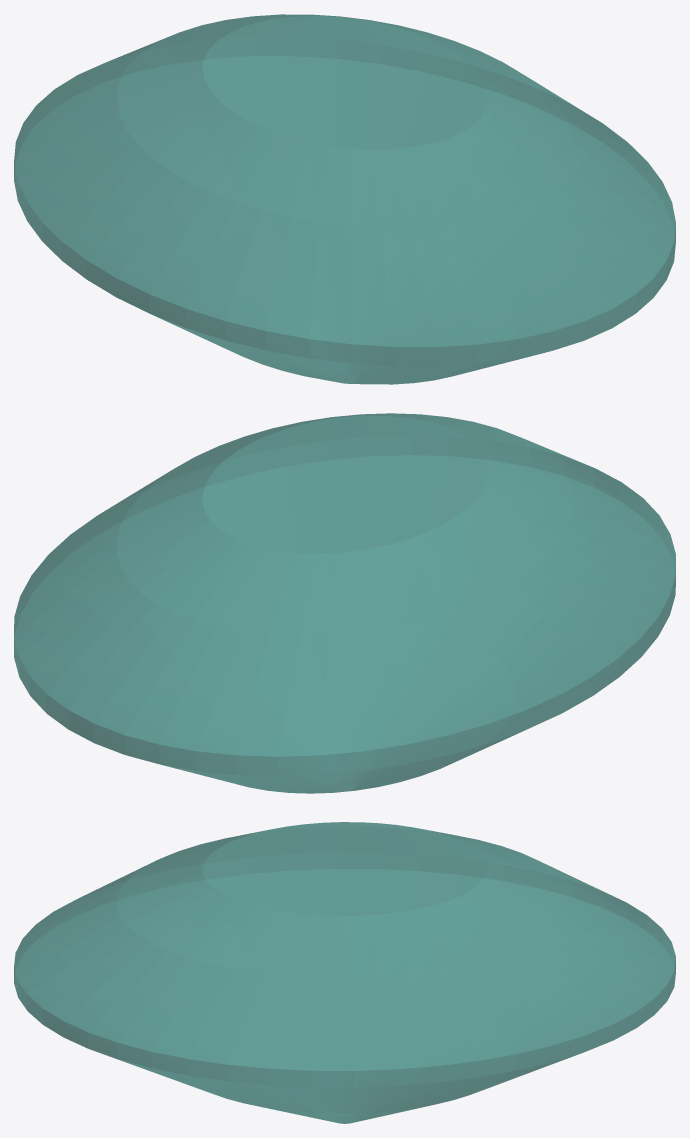
The model's file is stone-alexandrite.glb.
3 views of the same model, one above another, from view 1: azimuth 30°, elevation 25°; view 2: azimuth 150°, elevation 25°; view 3: azimuth 270°, elevation 25° (orthographic). The views are drawn at different scales.
Parts seen in each view (by area): view 1: Sculpture; view 2: Sculpture; view 3: Sculpture.
Boxes of the visible parts, x1,y1,x2,y2 form: Sculpture: (14,14,675,384); Sculpture: (14,413,675,793); Sculpture: (14,822,675,1123).
Bounding box in the file's own units: 2 × 1.07 × 2.56.
